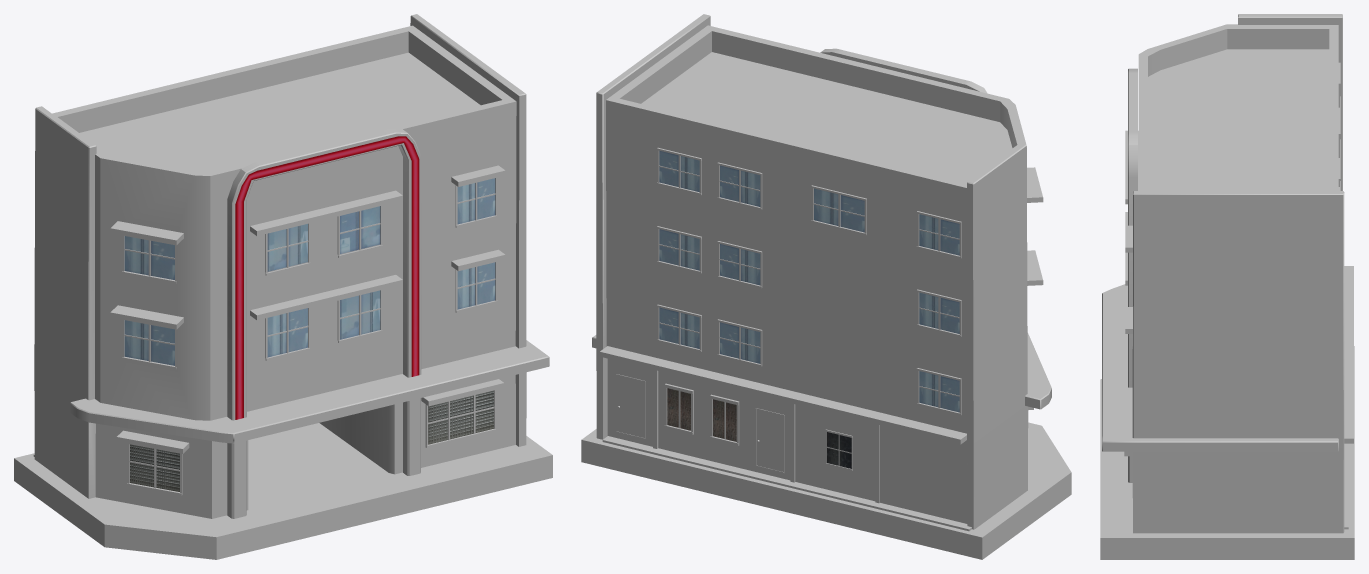
Rendered from bldg_mall_03a.fbx.
The picture shows the model from 3 angles, left to right: view 1: azimuth 30°, elevation 25°; view 2: azimuth 150°, elevation 25°; view 3: azimuth 270°, elevation 25°; orthographic projection. The views are drawn at different scales.
Parts seen in each view (by area): view 1: bldg_mall_03a; view 2: bldg_mall_03a; view 3: bldg_mall_03a.
Boxes of the visible parts, box(x1,y1,x2,y2) form: bldg_mall_03a: box(14, 14, 552, 559); bldg_mall_03a: box(581, 14, 1071, 559); bldg_mall_03a: box(1100, 14, 1354, 559).
Size of the model in its own units: 14.73 by 12.86 by 8.2.
